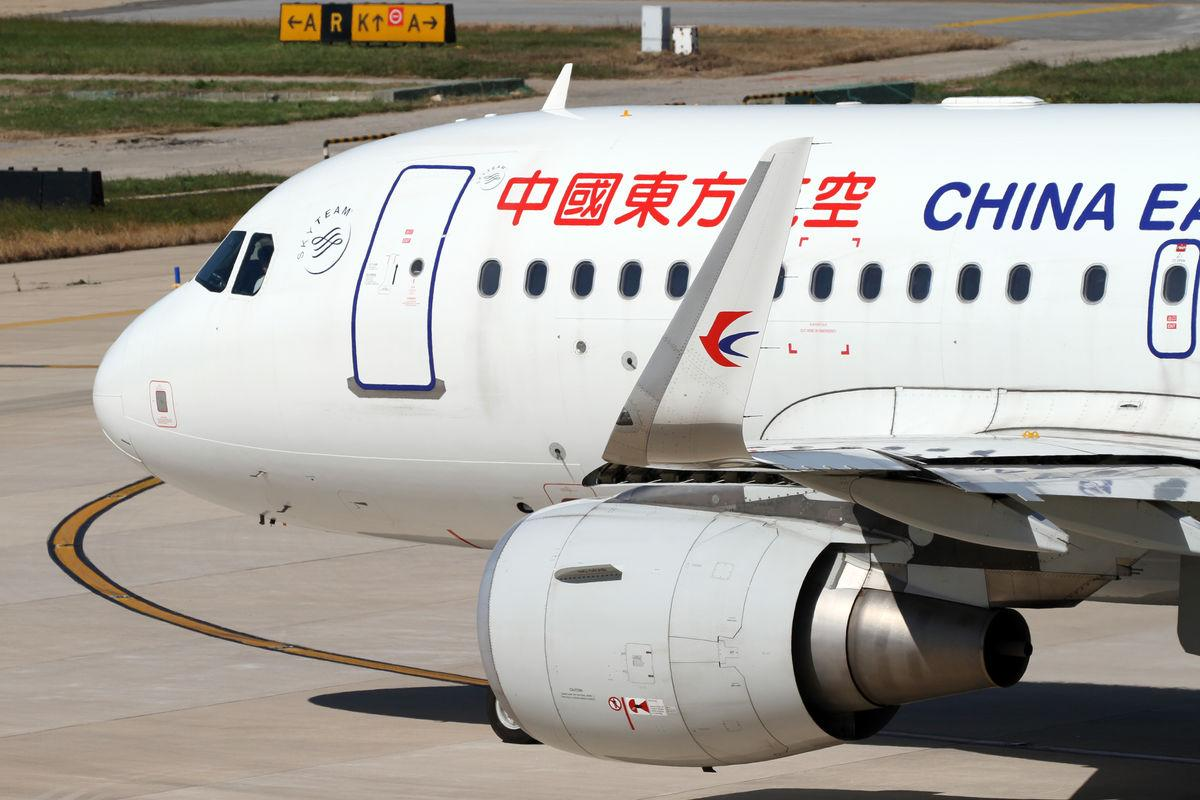airplane: (86, 93, 1200, 754)
